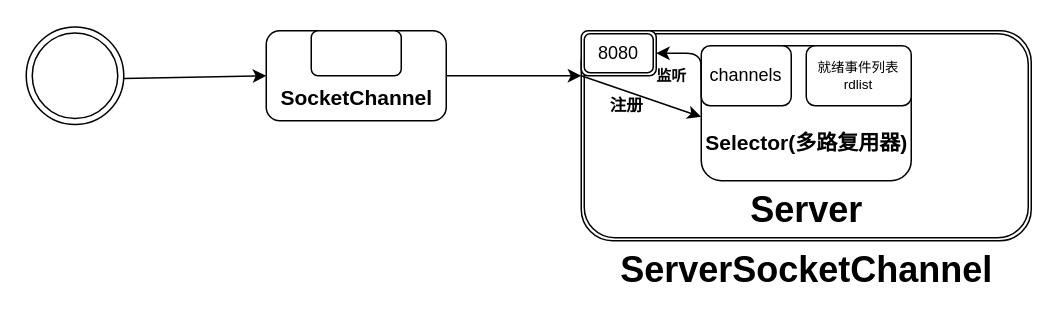
Some shapes in this 1058 by 326 pixel diagram are drawn without their labels. The centre of each missing label's shape, as x and y in pixels:
"buffer" goes at [355,52].
"Client" goes at [74,75].
